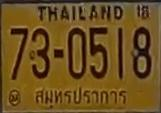0: (67, 28, 86, 78)
1: (117, 28, 122, 76)
3: (28, 27, 50, 78)
5: (89, 26, 108, 78)
7: (9, 27, 28, 79)
8: (130, 26, 150, 78)
SPK: (33, 84, 129, 109)
